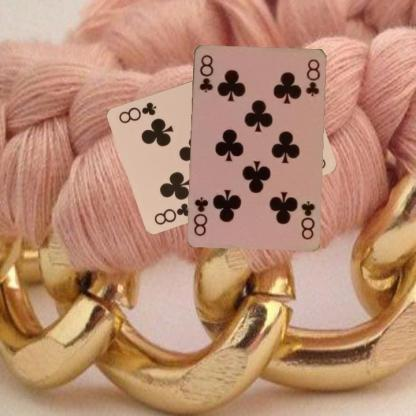8c: (151, 200, 193, 226), (298, 198, 318, 240), (197, 52, 214, 94)
